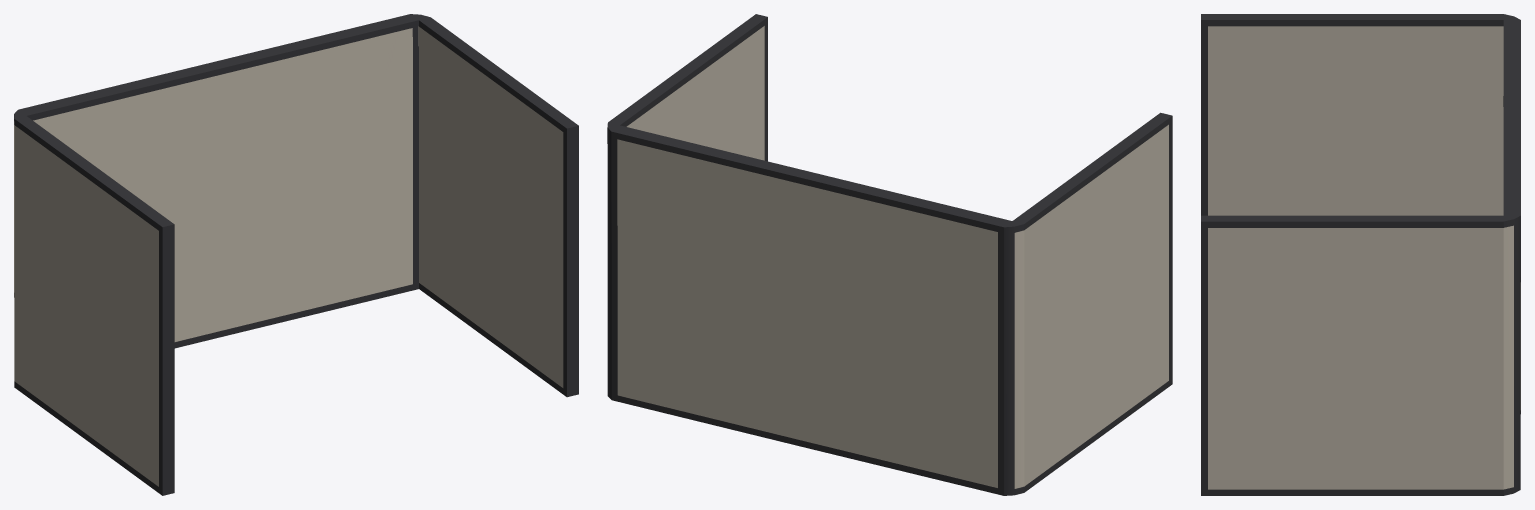
Rendered from 08_divider_full_U.glb.
3 renders of one model, left to right at view 1: azimuth 30°, elevation 25°; view 2: azimuth 150°, elevation 25°; view 3: azimuth 270°, elevation 25°, orthographic. The views are drawn at different scales.
Visible parts, largest first — view 1: PartitionDestructible_divider_full_c_BACK_BACK; view 2: PartitionDestructible_divider_full_c_BACK_BACK; view 3: PartitionDestructible_divider_full_c_BACK_BACK.
Boxes of the visible parts, <box> form: PartitionDestructible_divider_full_c_BACK_BACK: <box>14,14,578,495</box>; PartitionDestructible_divider_full_c_BACK_BACK: <box>607,14,1172,495</box>; PartitionDestructible_divider_full_c_BACK_BACK: <box>1201,14,1520,495</box>.
Size of the model in its own units: 2.43 by 1.5 by 1.59.
